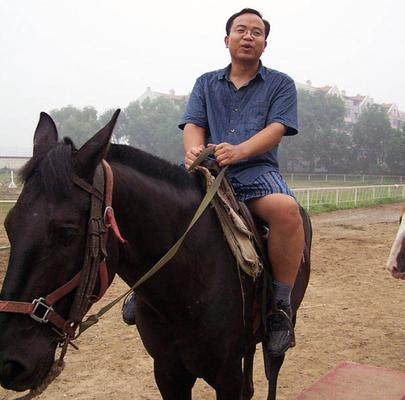person: (179, 9, 305, 356)
